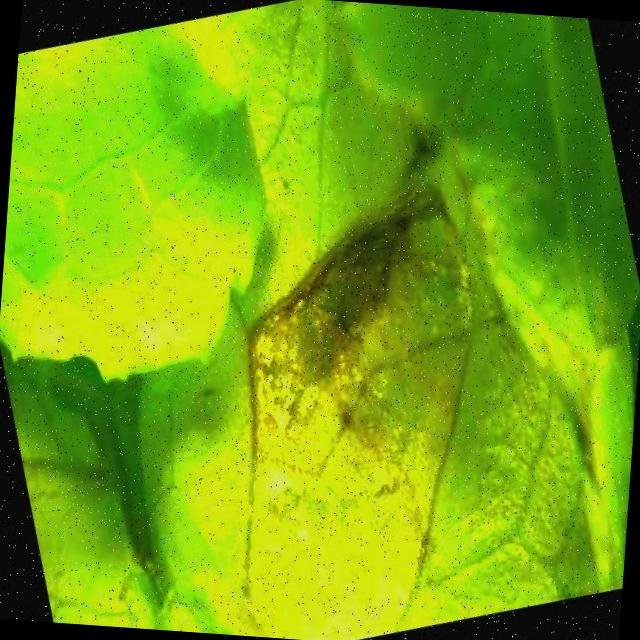Bacterial: (185, 156, 552, 557)
